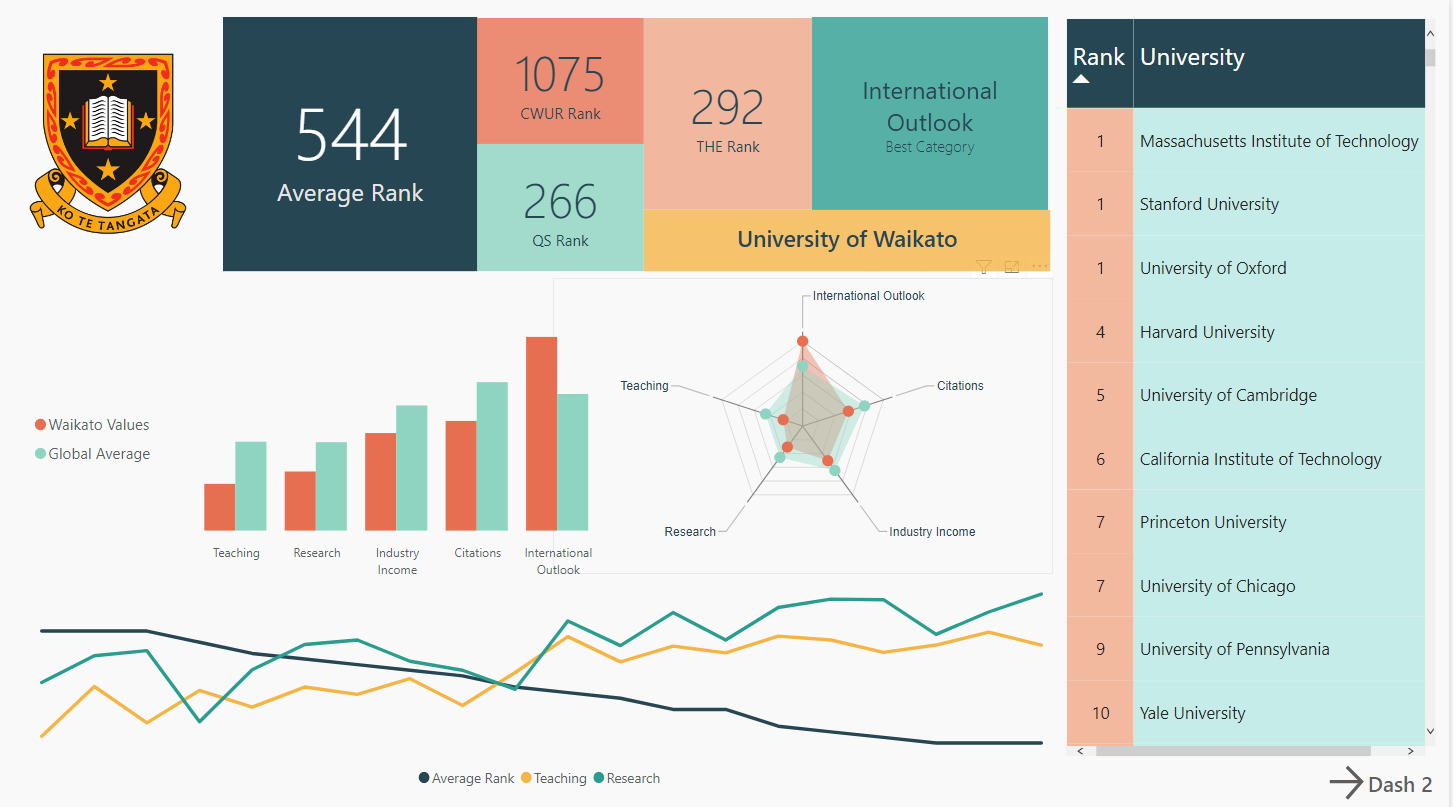

What the dashboard file says about the page in this screenshot:
{"tool":"powerbi","page":{"name":"Page 1","canvas":[1280,720],"ordinal":0},"visuals":[{"type":"card","title":"UoW Average Rank","fields":{"Values":["CWUR + QS + THE.Default"]},"box":[199.2,16,224,224],"z":0},{"type":"RadarChart1446119667547","title":"Score by Category","fields":{"Category":["CWUR + QS + THE (2).Attribute"],"Y":["2020 CWUR.Waikato Spider","Avg(CWUR + QS + THE (2).Value)"]},"box":[490,245.5,440.3,261.1],"z":1000},{"type":"image","box":[15.6,42.8,163.4,170.2],"z":2000},{"type":"card","title":"UoW Average Rank","fields":{"Values":["CWUR + QS + THE.Default CWUR Rank"]},"box":[422.7,16.7,146.6,110.8],"z":3000},{"type":"card","title":"UoW Average Rank","fields":{"Values":["2020 CWUR.Default QS Rank"]},"box":[423,127.8,147.2,111.9],"z":4000},{"type":"card","title":"UoW Average Rank","fields":{"Values":["2020 CWUR.Default THE Rank"]},"box":[570.2,16.7,148.1,169.2],"z":5000},{"type":"card","title":"UoW Average Rank","fields":{"Values":["2020 CWUR.Default Uni Name"]},"box":[570.2,185.9,357.8,53.8],"z":6000},{"type":"card","title":"UoW Average Rank","fields":{"Values":["CWUR + QS + THE.Default Attribute"]},"box":[718,16.1,207.8,170.1],"z":7000},{"type":"actionButton","box":[1168.3,670.3,100.9,40.4],"z":8000},{"type":"lineChart","title":"Research vs Rank","fields":{"Category":["CWUR + QS + THE.University"],"Y":["Sum(CWUR + QS + THE.Average Rank)","2020 CWUR.Measure 2","2020 CWUR.Research Adjusted"]},"box":[15.6,508.7,927.9,196.5],"z":9000},{"type":"tableEx","fields":{"Values":["Sum(CWUR + QS + THE.Rank of Average Rank)","CWUR + QS + THE.University"]},"box":[936.8,11.9,336.1,660.3],"z":10000},{"type":"clusteredColumnChart","title":"Score by Category","fields":{"Y":["2020 CWUR.Waikato Spider","Avg(CWUR + QS + THE (2).Value)"],"Category":["CWUR + QS + THE (2).Attribute"]},"box":[27.3,256.2,528.9,261.1],"z":11000}]}

Visuals, with their boxes in screenshot pixels (x1, y1, x2, y2), scaled from the page's 1280x720 canvas onto the 1453x807 screenshot:
"UoW Average Rank" card: 226, 18, 480, 269
"Score by Category" RadarChart1446119667547: 556, 275, 1056, 568
image: 18, 48, 203, 239
"UoW Average Rank" card: 480, 19, 646, 143
"UoW Average Rank" card: 480, 143, 647, 269
"UoW Average Rank" card: 647, 19, 815, 208
"UoW Average Rank" card: 647, 208, 1053, 269
"UoW Average Rank" card: 815, 18, 1051, 209
actionButton: 1326, 751, 1441, 797
"Research vs Rank" lineChart: 18, 570, 1071, 790
tableEx - Sum(CWUR + QS + THE.Rank of Average Rank) x CWUR + QS + THE.University: 1063, 13, 1445, 753
"Score by Category" clusteredColumnChart: 31, 287, 631, 580
